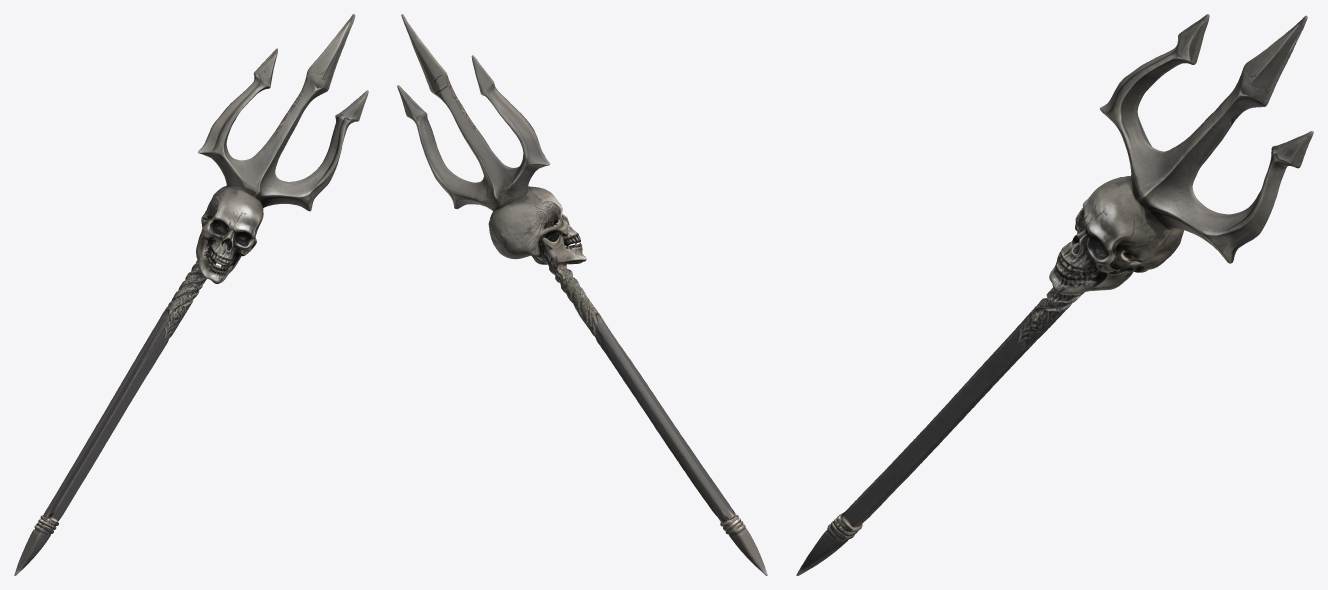
File: create_a_cool_but_sim_1030145046_texture.fbx
3 renders of one model, left to right at view 1: azimuth 30°, elevation 25°; view 2: azimuth 150°, elevation 25°; view 3: azimuth 330°, elevation 25°, orthographic. The views are drawn at different scales.
Visible parts, largest first — view 1: input; view 2: input; view 3: input.
Boxes of the visible parts, x1,y1,x2,y2 form: input: [14, 14, 368, 575]; input: [397, 14, 767, 575]; input: [796, 14, 1313, 575].
Bounding box in the file's own units: 153 × 192 × 28.88.
Materials: 1 (1 with a texture image).
